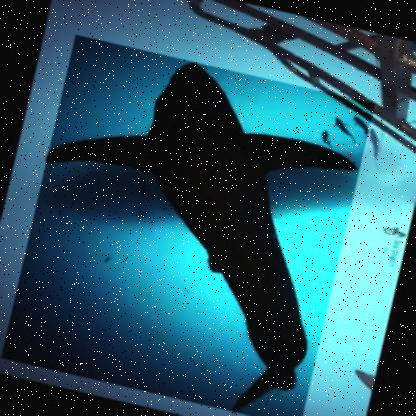white-shark: (0, 34, 374, 415)
